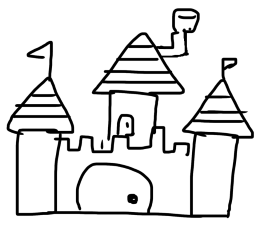chimney: (156, 1, 206, 66)
closed_window: (112, 107, 141, 140)
door: (70, 158, 156, 221)
roof: (88, 27, 187, 99)
wall: (53, 137, 196, 225)
